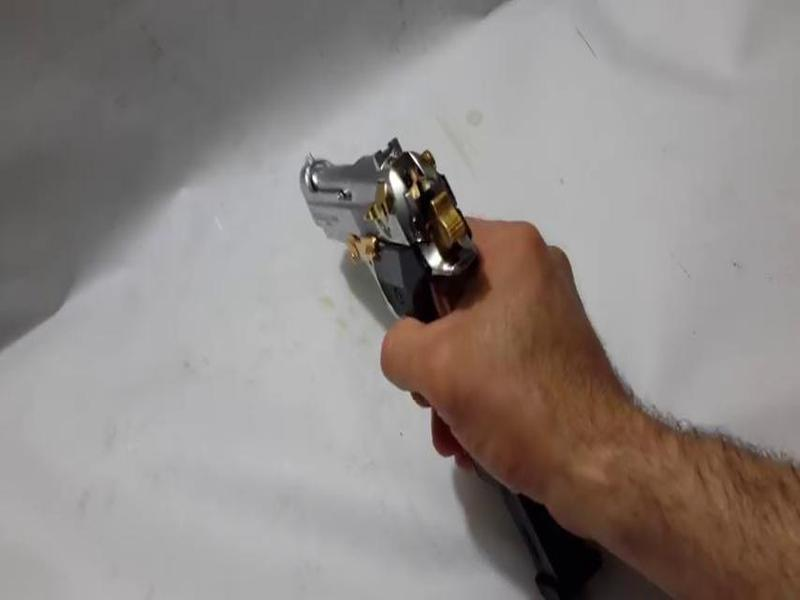Pistola: (261, 121, 541, 406)
